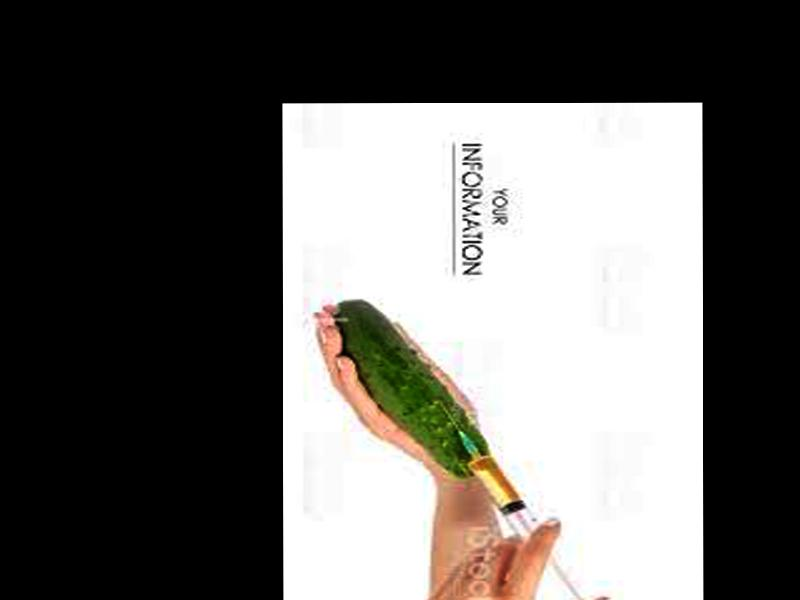Cucumber: (337, 301, 492, 476)
